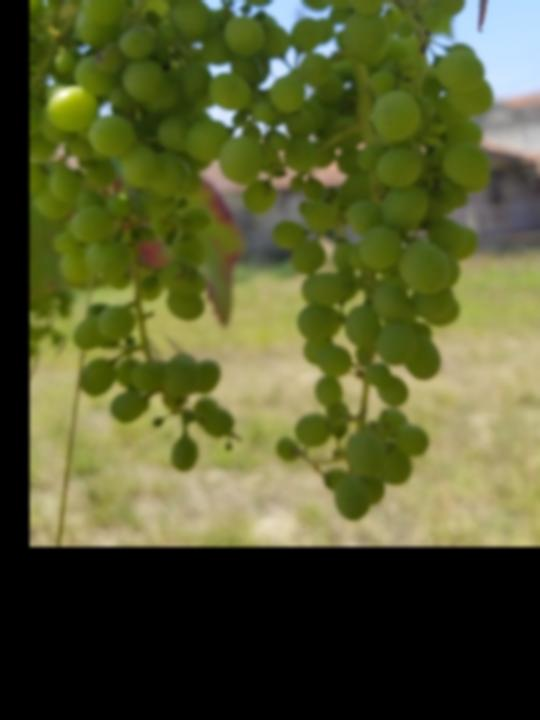grape: (243, 0, 500, 524), (0, 0, 281, 472)
